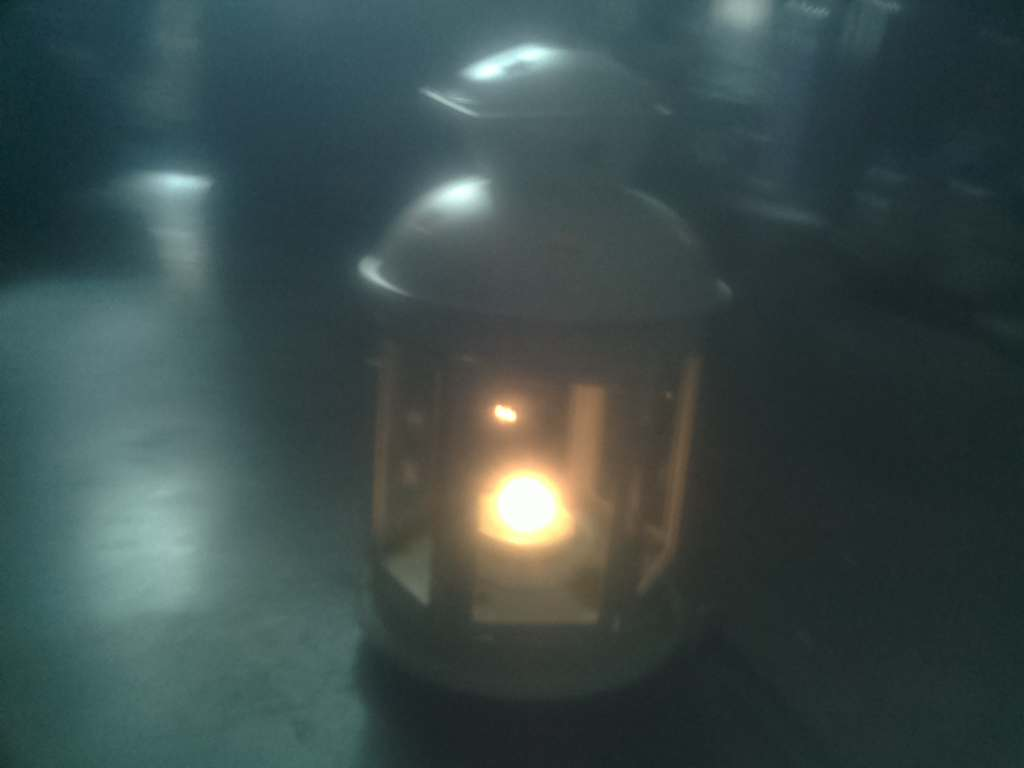fire: (475, 465, 592, 568)
